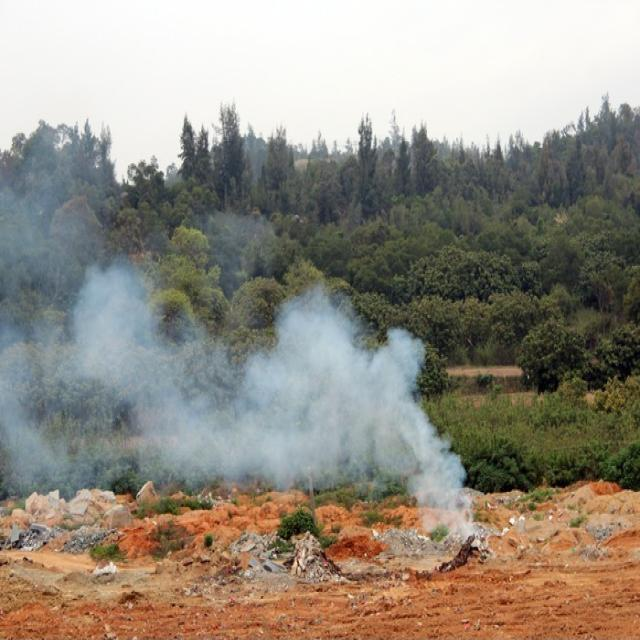Smoke: (80, 263, 470, 546)
